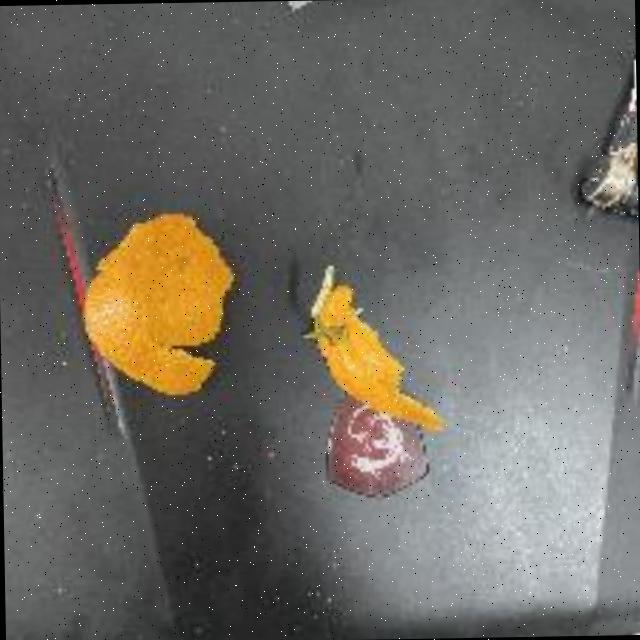orange-peel: (77, 208, 237, 399), (300, 261, 446, 436)
